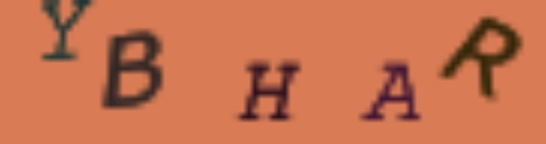A: (353, 58, 426, 124)
B: (95, 24, 168, 115)
H: (233, 56, 304, 126)
R: (436, 15, 526, 102)
Y: (34, 1, 96, 63)
